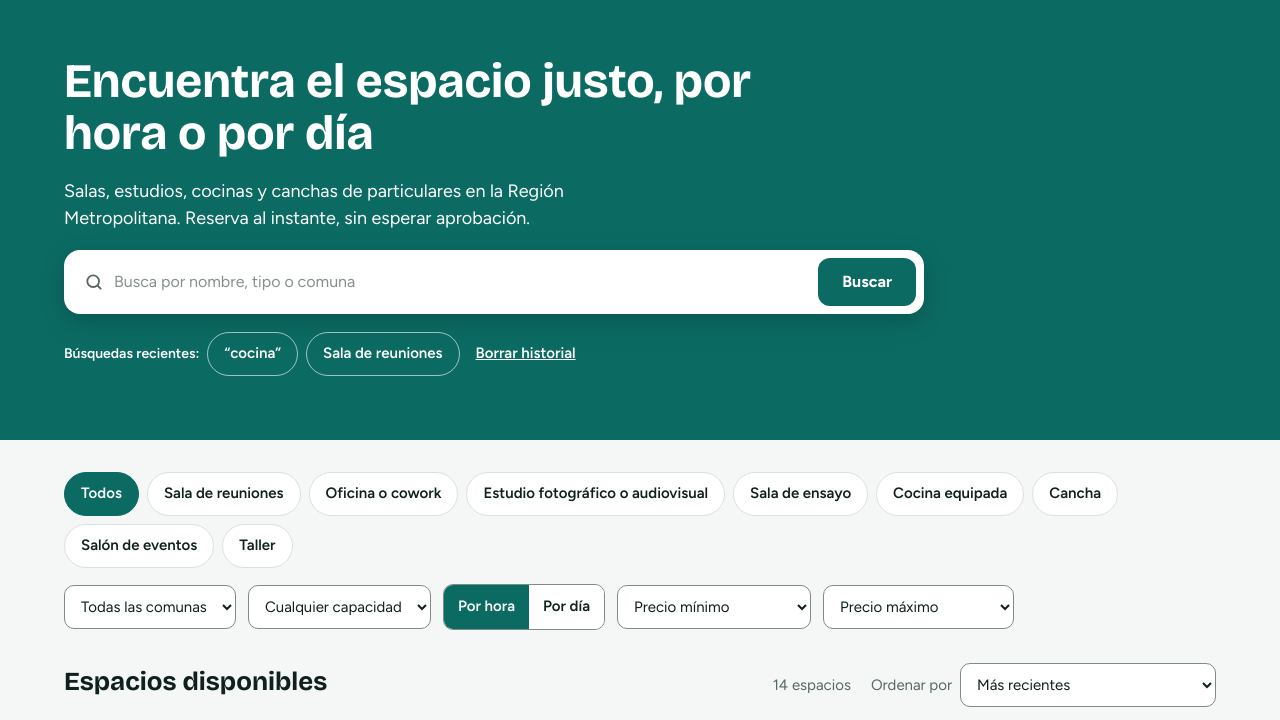
Test: CatalogPage: búsquedas recientes (BU-07) › "Borrar historial" lo vacía y esconde el panel
The image size is (1280, 720).
Click the button "Borrar historial": (526, 354) [468,332,584,376]
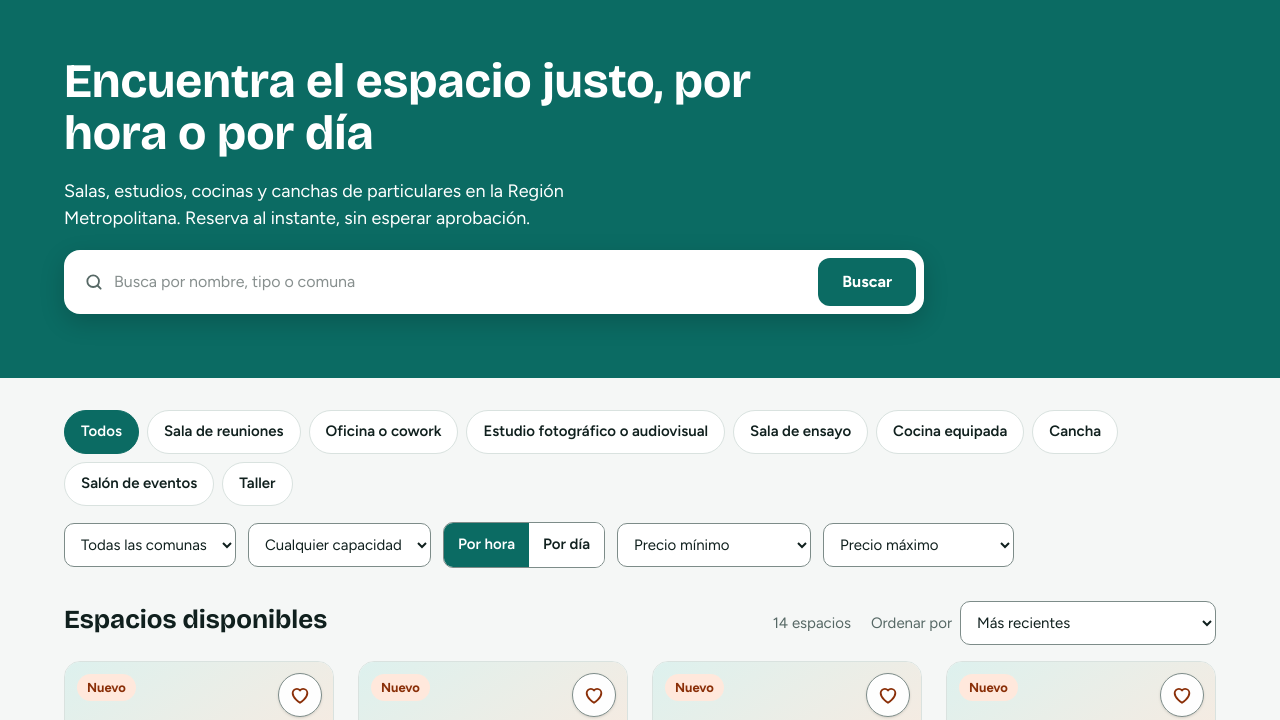
Check: the text "Búsquedas recientes" is gone
